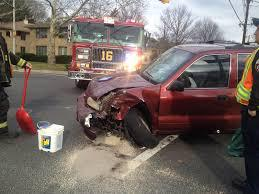bonnet-dent: (90, 70, 143, 94)
fender-dent: (103, 91, 155, 115)
front-bumper-dent: (72, 98, 93, 136)
